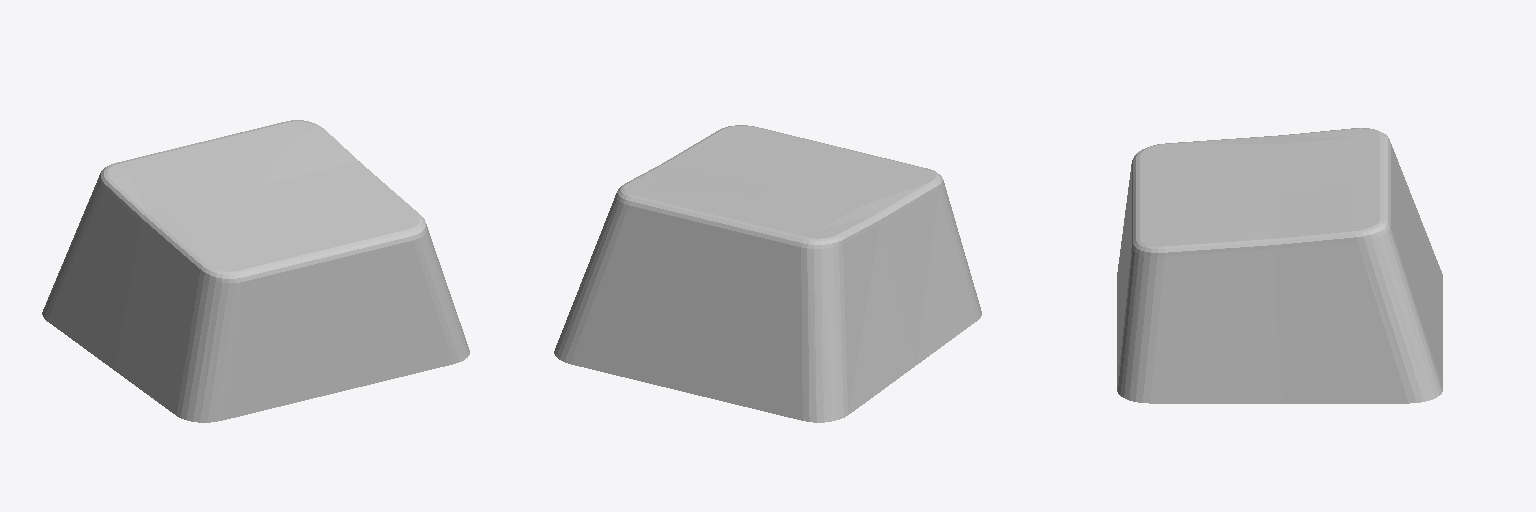
The model's file is keycap.obj.
3 renders of one model, left to right at view 1: azimuth 30°, elevation 25°; view 2: azimuth 150°, elevation 25°; view 3: azimuth 270°, elevation 25°, orthographic.
Visible parts, largest first — view 1: Cube.004; view 2: Cube.004; view 3: Cube.004.
Part boxes in pixels (x1,y1,x2,y2): Cube.004: (42,120,469,422); Cube.004: (554,125,981,422); Cube.004: (1117,128,1442,403).
Bounding box in the file's own units: 0.0185 × 0.0094 × 0.0181.